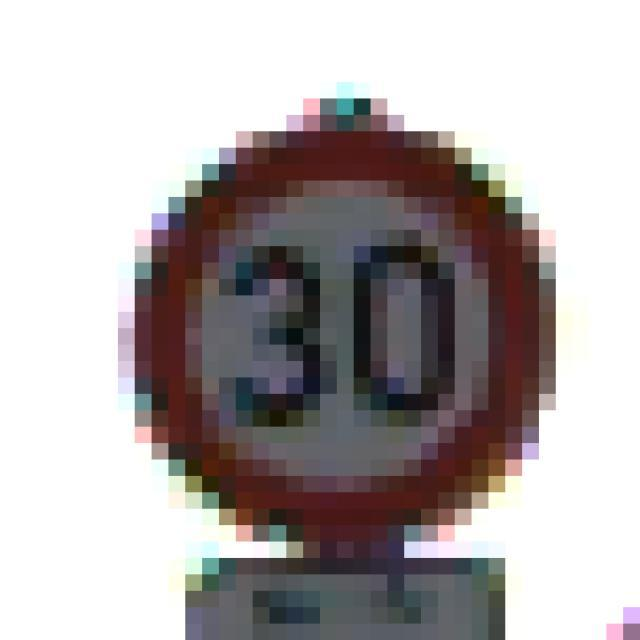Speed Limit -30-: (92, 74, 548, 534)
